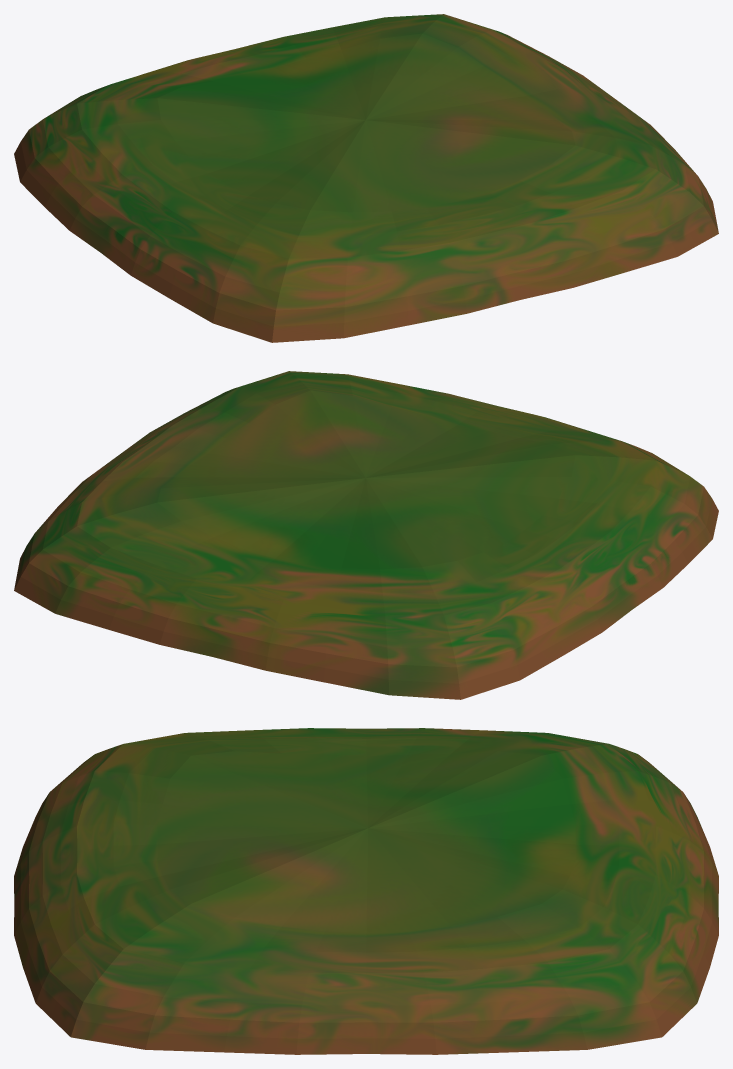
Rendered from sludge.gltf.
The picture shows the model from 3 angles, top to bottom: view 1: azimuth 30°, elevation 25°; view 2: azimuth 150°, elevation 25°; view 3: azimuth 270°, elevation 25°; orthographic projection. The views are drawn at different scales.
Parts seen in each view (by area): view 1: Sphere; view 2: Sphere; view 3: Sphere.
Part boxes in pixels (x1,y1,x2,y2): Sphere: [14, 14, 718, 342]; Sphere: [14, 371, 718, 699]; Sphere: [14, 728, 718, 1054].
Size of the model in its own units: 2 by 0.2634 by 2.
1 material, 1 textured.
